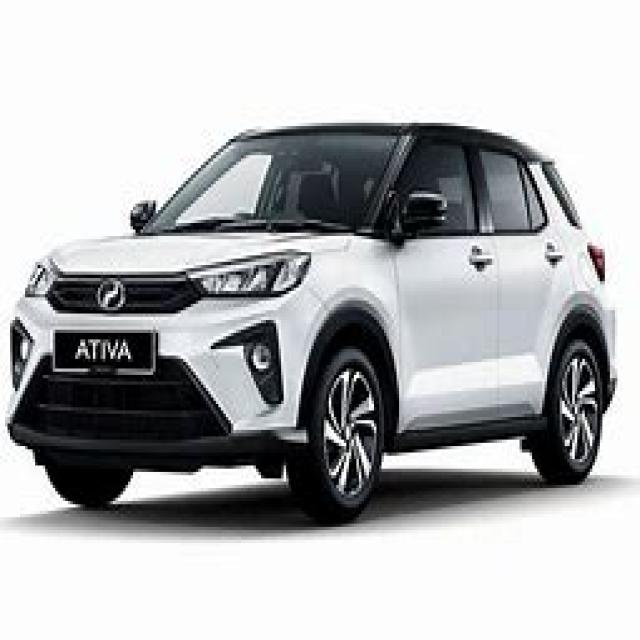PeroduaAtiva: (2, 116, 620, 524)
